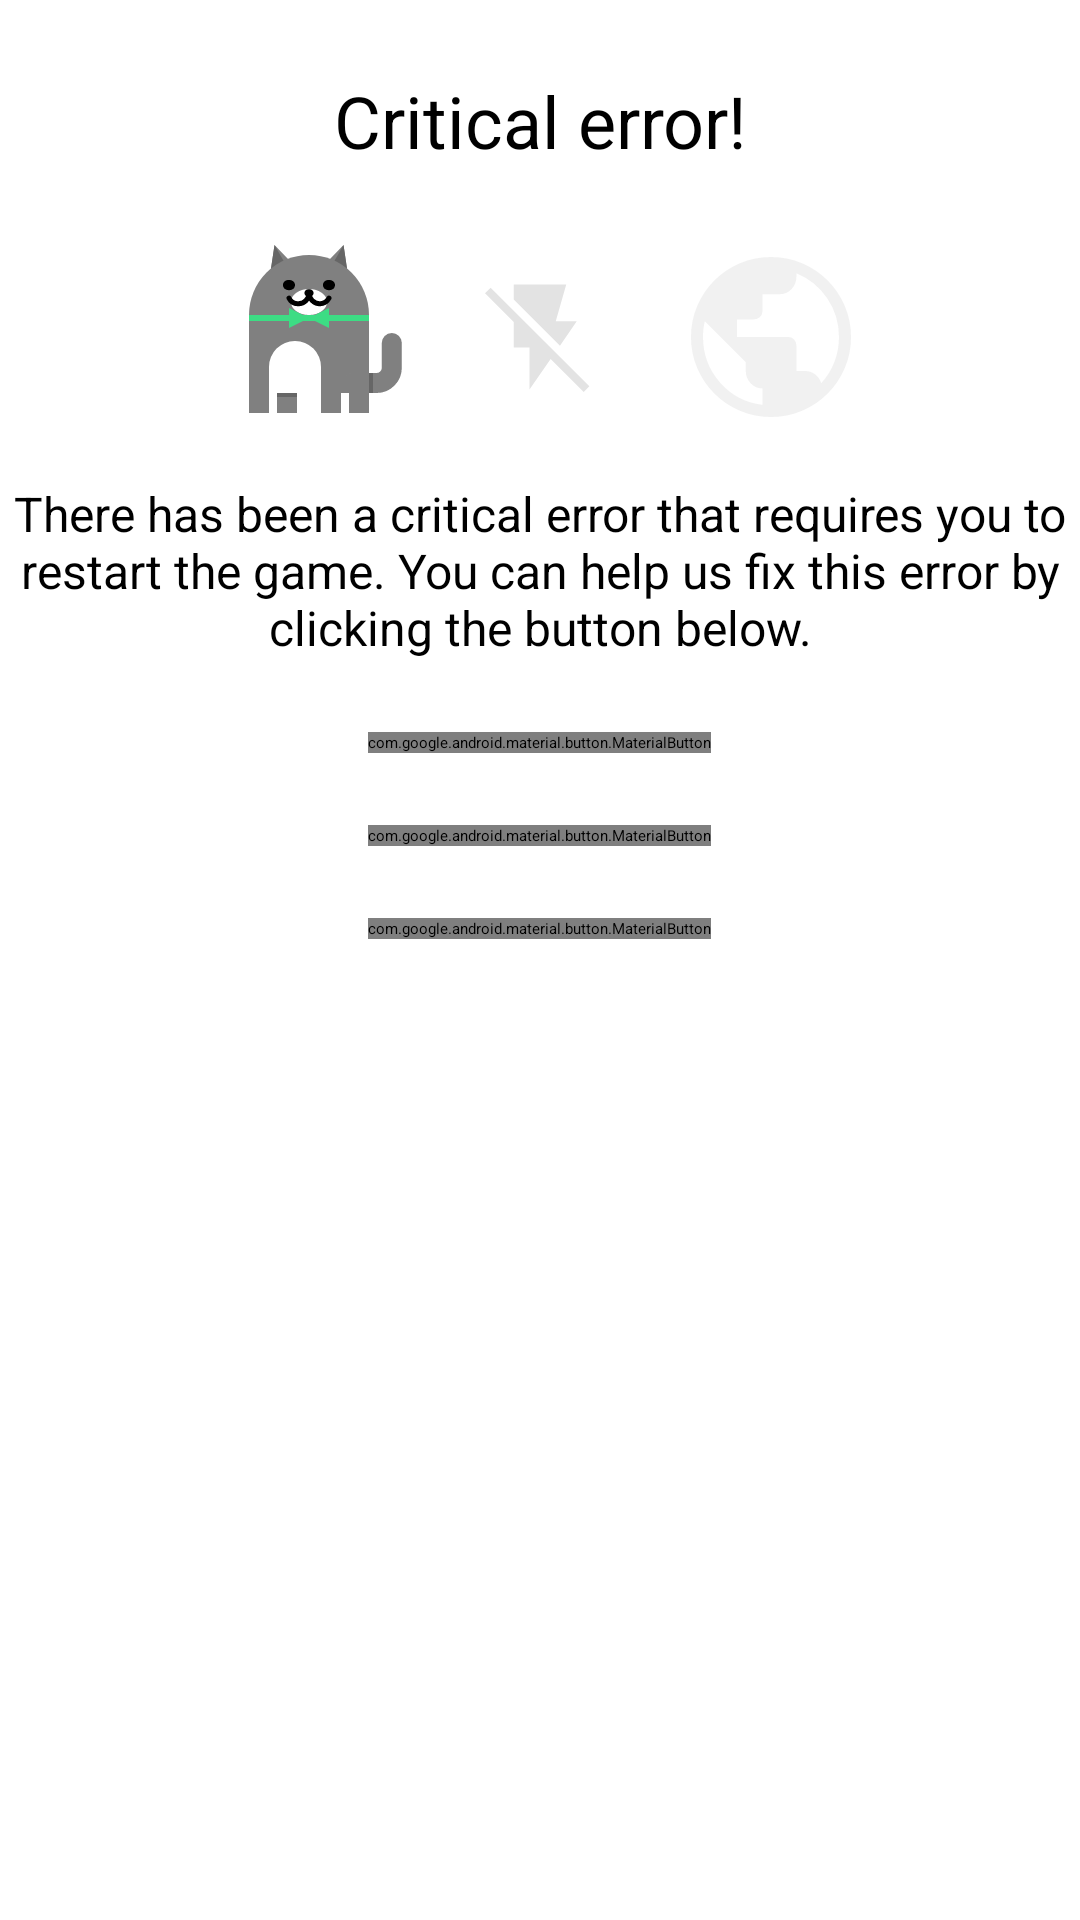

Icon click points for this 1080w x 1920h phone screenshot, format point (x, y):
flash off: point (537, 338)
fullcat: point (325, 329)
